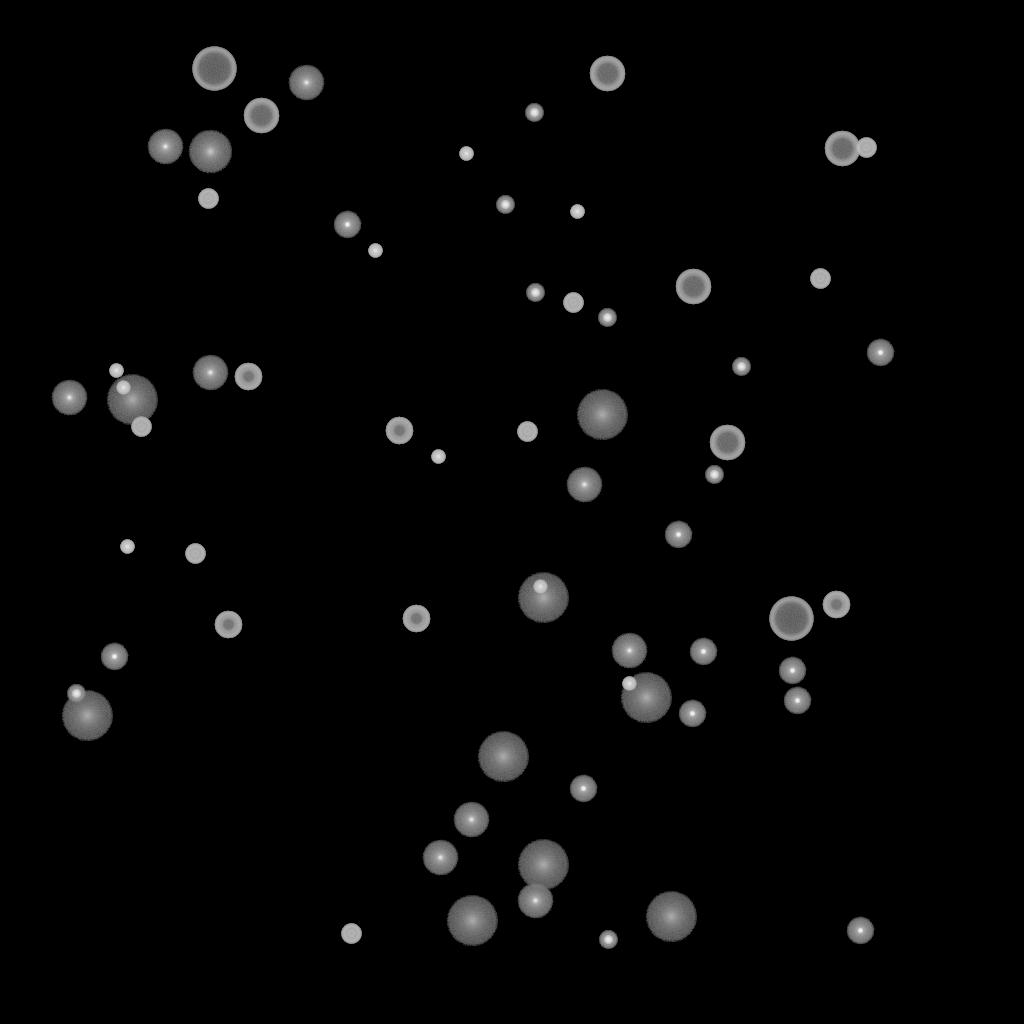depth:-10: (678, 700, 706, 728), (783, 687, 811, 715), (664, 521, 692, 549), (846, 917, 874, 945), (569, 775, 597, 803), (866, 339, 894, 367), (778, 657, 806, 685), (333, 211, 361, 239), (689, 638, 717, 666), (100, 643, 128, 671)
depth:-20: (705, 466, 723, 484), (732, 358, 750, 376), (599, 931, 617, 949), (67, 685, 85, 703), (496, 196, 514, 214), (525, 104, 543, 122), (526, 284, 544, 302), (598, 309, 616, 327)
depth:-30: (533, 580, 547, 594), (368, 244, 382, 258), (622, 677, 636, 691), (120, 540, 134, 554), (459, 147, 473, 161), (116, 381, 130, 395), (570, 205, 584, 219), (431, 450, 445, 464), (109, 364, 123, 378)
depth:-40: (563, 293, 583, 313), (856, 138, 876, 158), (517, 422, 537, 442), (185, 544, 205, 564), (198, 189, 218, 209), (131, 417, 151, 437), (341, 924, 361, 944), (810, 269, 830, 289)
depth:-50: (385, 417, 413, 445), (402, 605, 430, 633), (822, 591, 850, 619), (234, 363, 262, 391), (214, 611, 242, 639)
depth:-60: (589, 56, 625, 92), (709, 425, 745, 461), (675, 269, 711, 305), (243, 98, 279, 134), (824, 131, 860, 167)
depth:-70: (192, 47, 236, 91), (769, 597, 813, 641)
depth:0: (422, 840, 458, 876), (147, 129, 183, 165), (192, 355, 228, 391), (611, 633, 647, 669), (288, 65, 324, 101), (566, 467, 602, 503), (517, 883, 553, 919), (51, 380, 87, 416), (453, 802, 489, 838)
depth:10: (188, 130, 232, 174)
depth:20: (477, 732, 529, 782), (106, 375, 158, 425), (446, 896, 498, 946), (517, 573, 569, 623), (517, 840, 569, 890), (576, 390, 628, 440), (61, 691, 113, 741), (645, 892, 697, 942), (620, 673, 672, 723)
